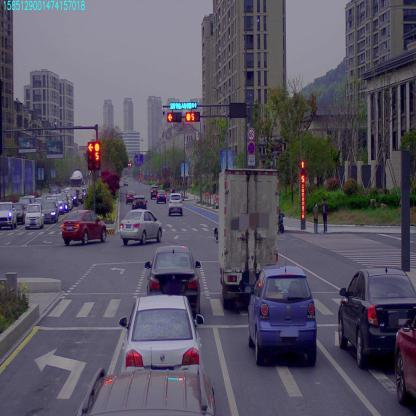traffic-light: (170, 101, 198, 109), (166, 112, 180, 125), (186, 112, 200, 122)
